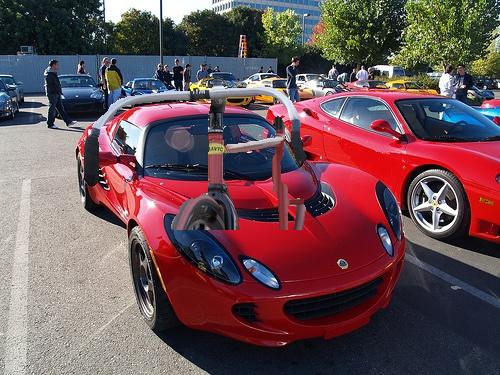tampered: (85, 77, 307, 230)
